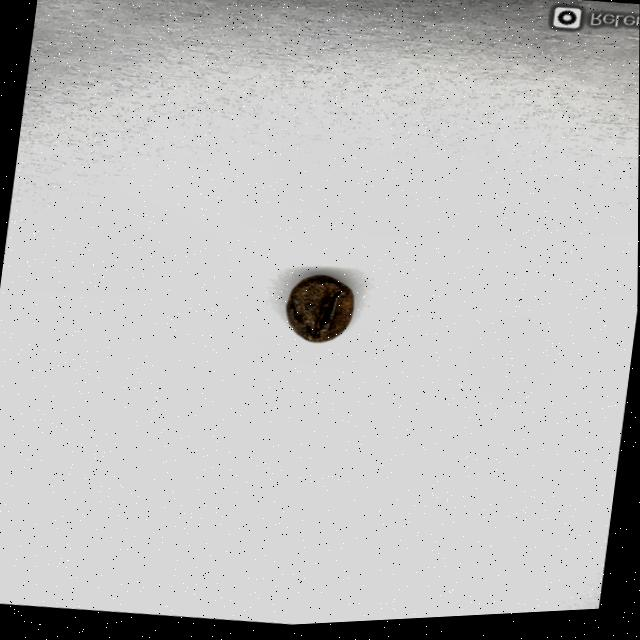Black: (280, 275, 359, 350)
